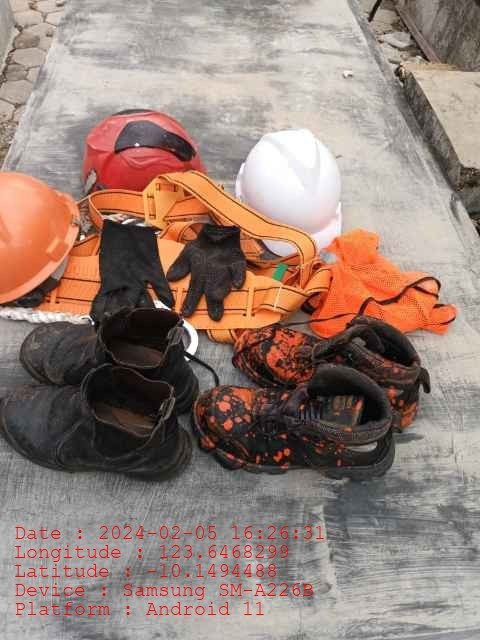HELM: (235, 129, 342, 258)
SARUNG_TANGAN: (168, 225, 246, 319)
SEPATU: (193, 319, 425, 477), (1, 309, 197, 481)
